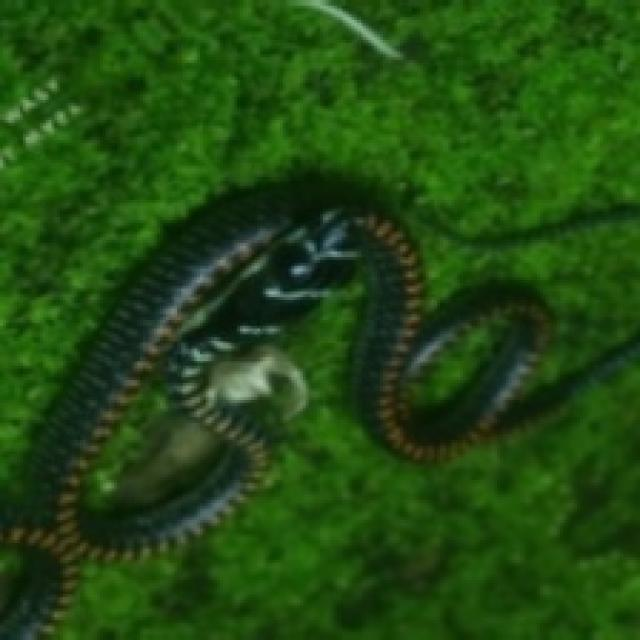paradise tree snake: (0, 177, 637, 637), (406, 417, 566, 569), (469, 209, 637, 283)
